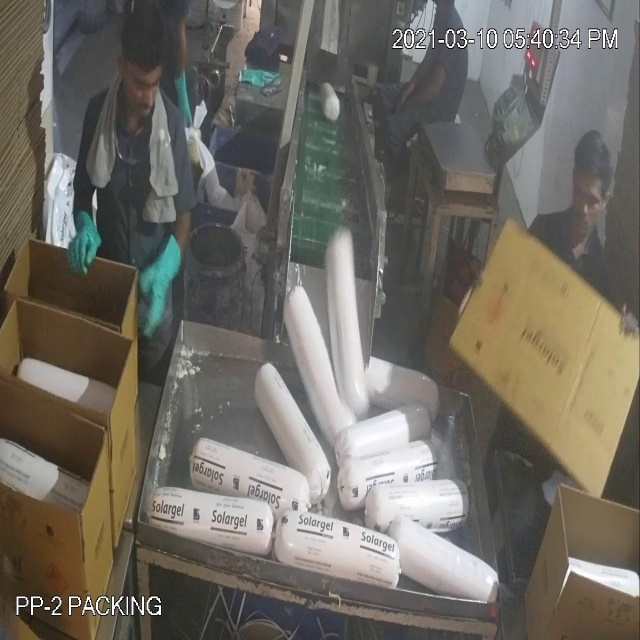Guantes: (139, 214, 192, 349), (67, 199, 106, 284)
Sin_guantes: (402, 59, 460, 126)
